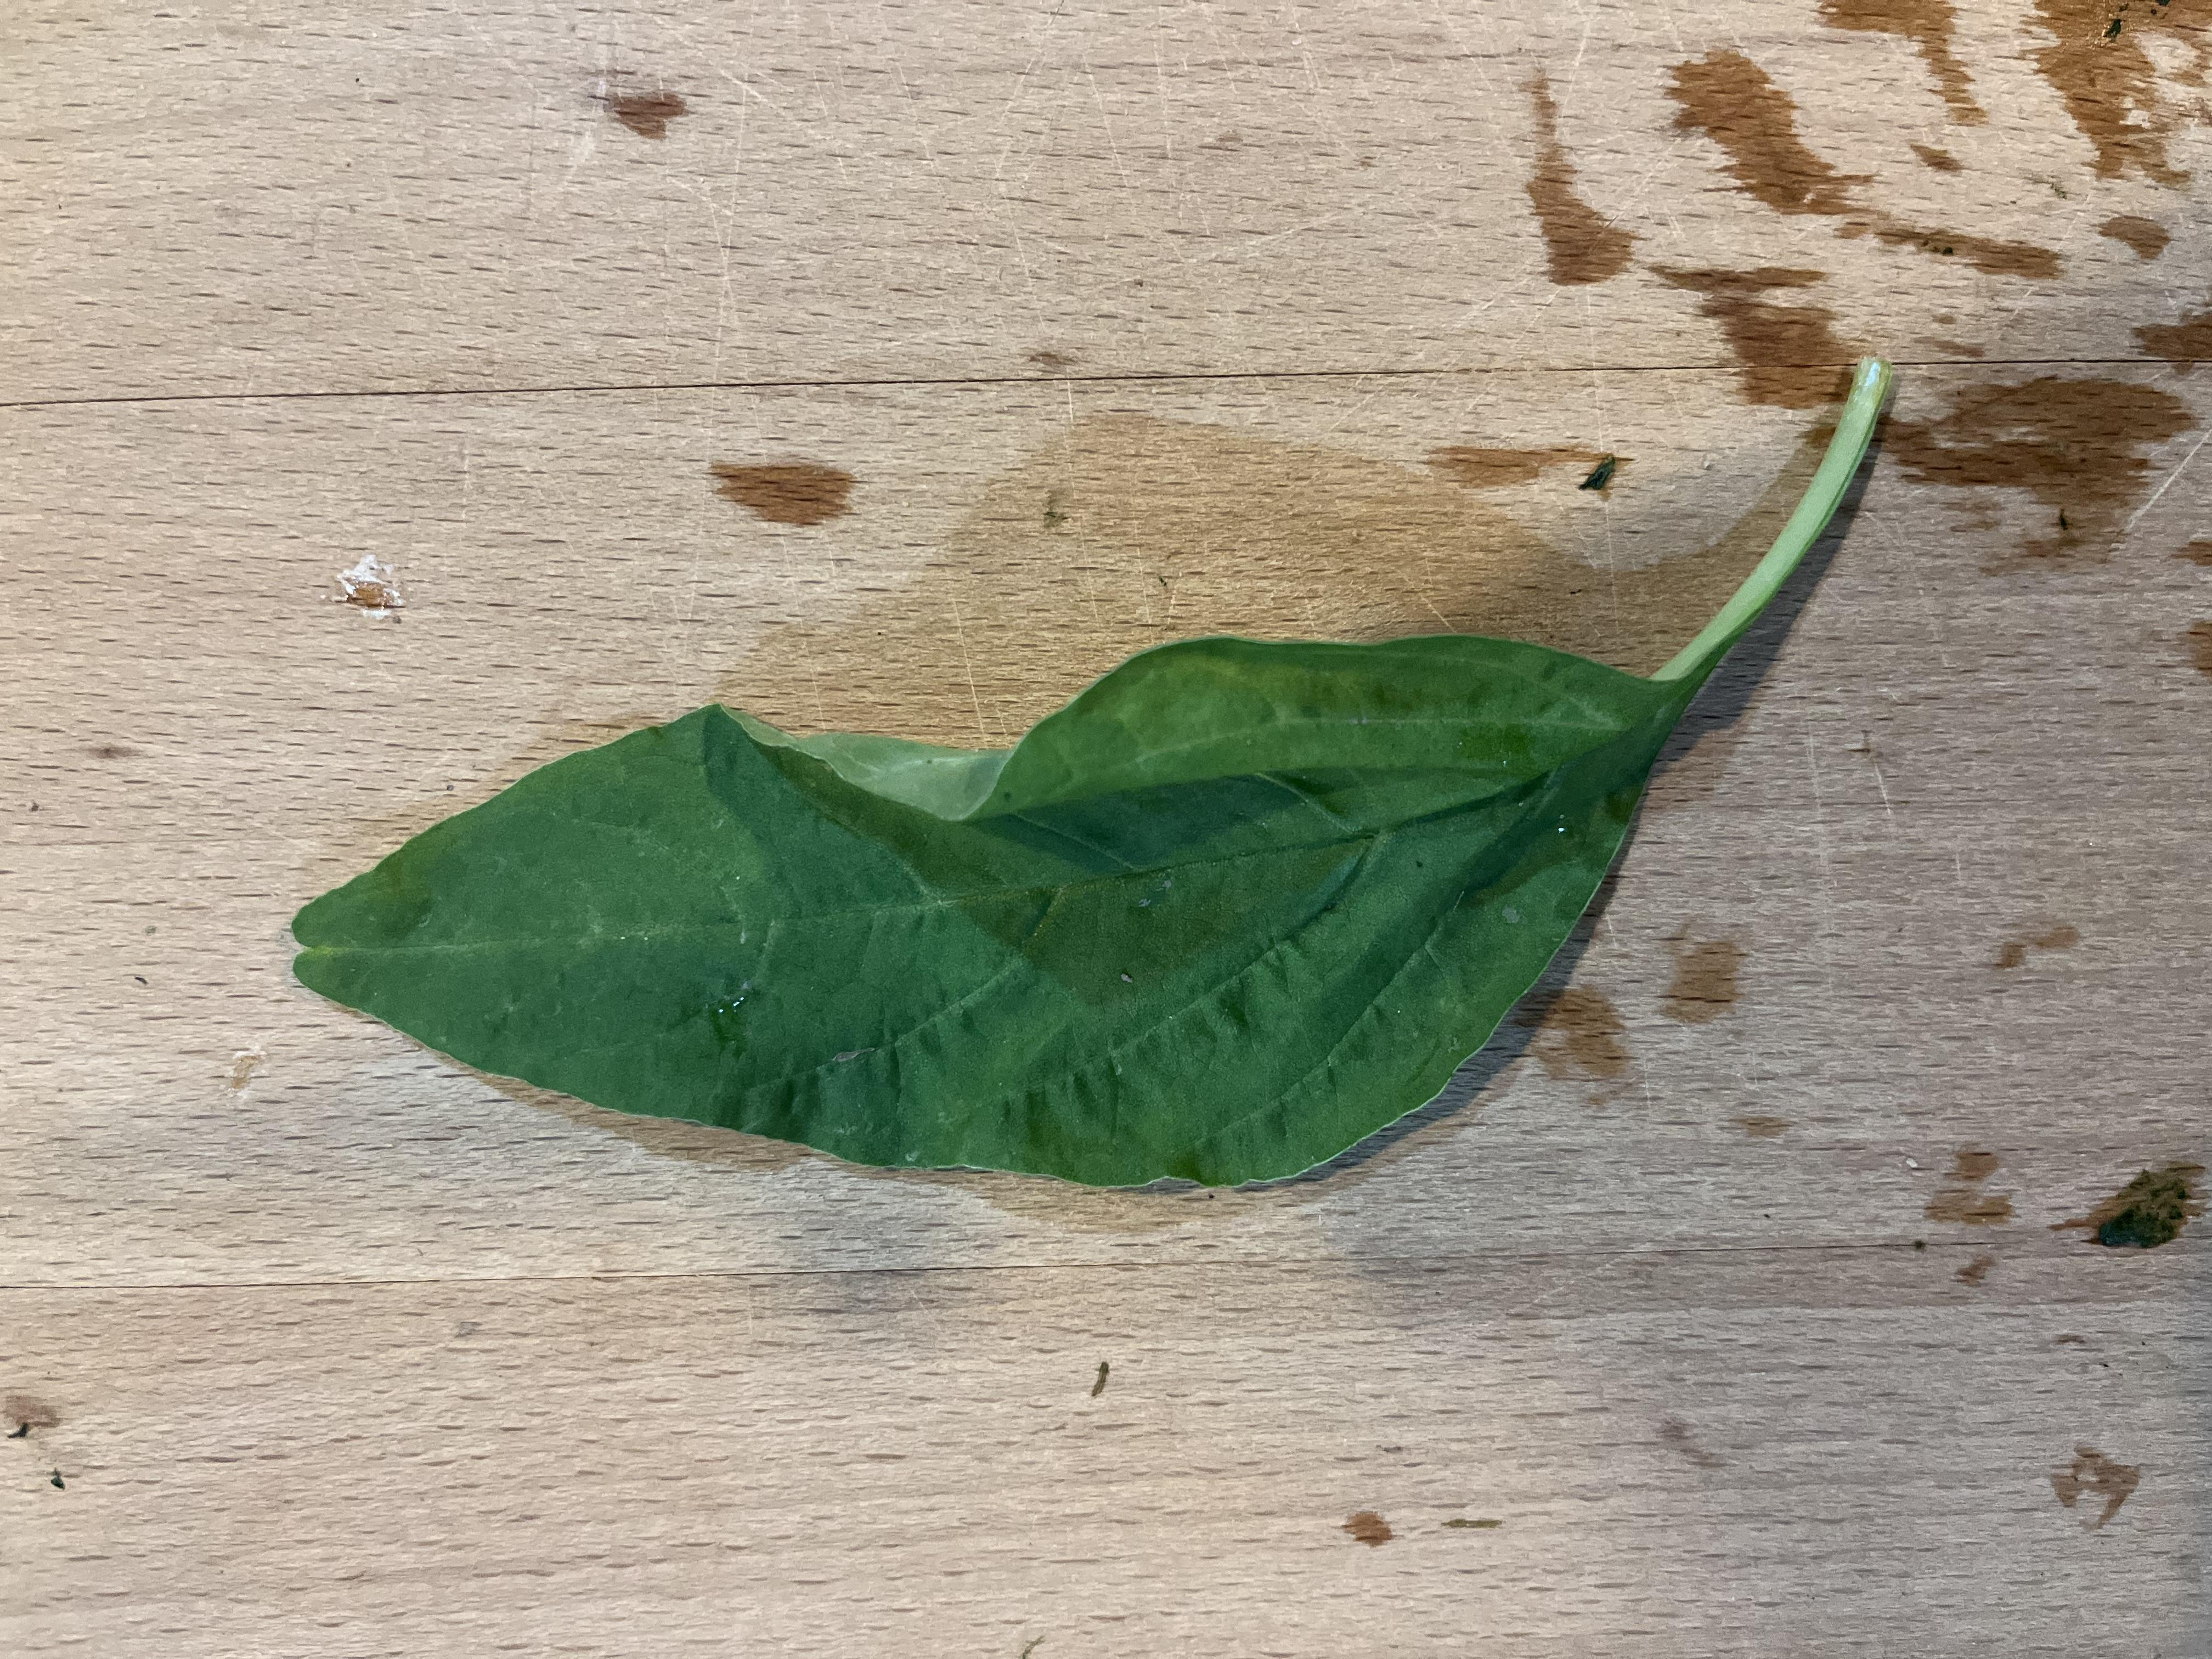Healthy-Pechay: (314, 230, 1904, 1371)
